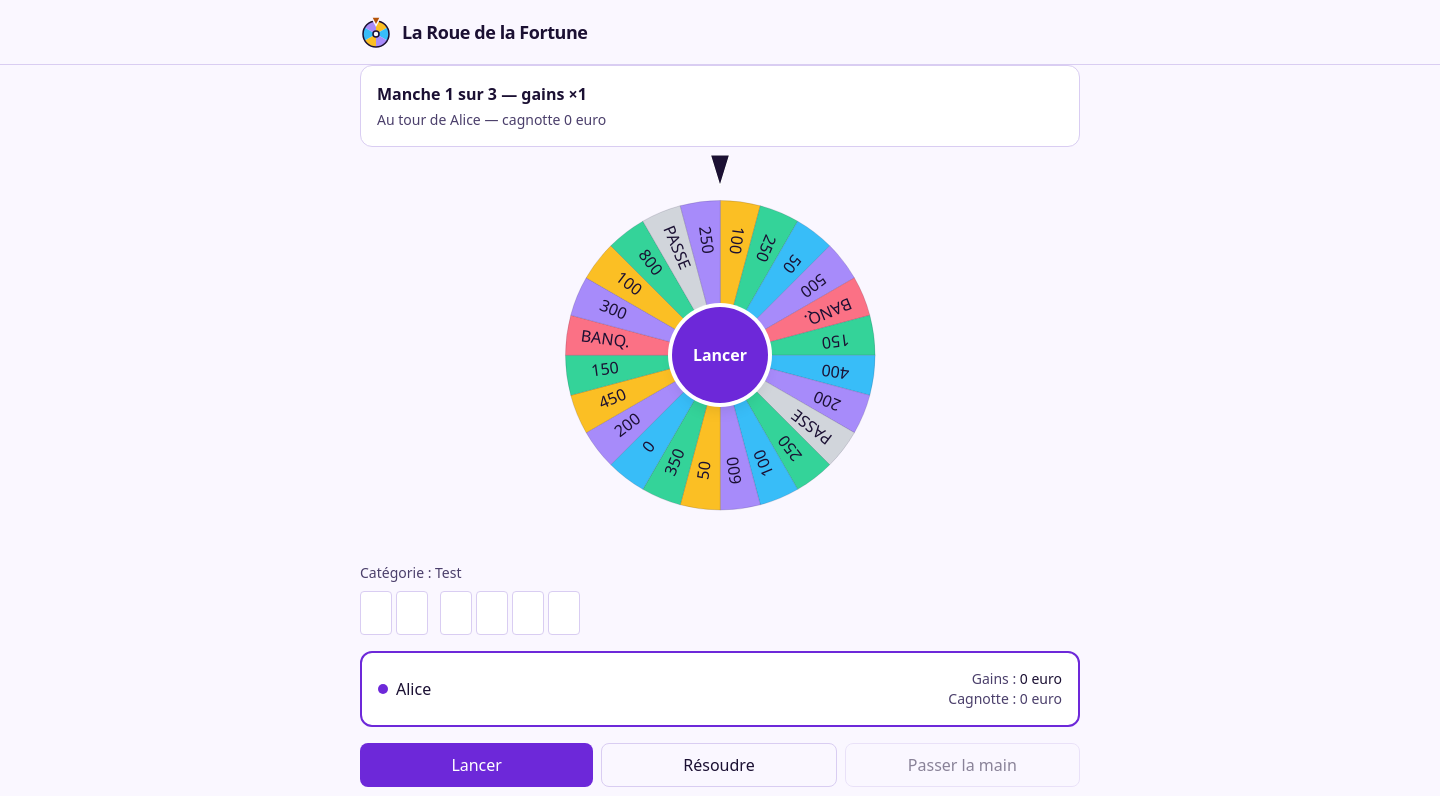
Test: GameRoute › la visée s’annule à l’ouverture de « Résoudre »
This screenshot has width=1440, height=796.
Click the 2nd button "Lancer" at (477,765), box [360,743,593,787]
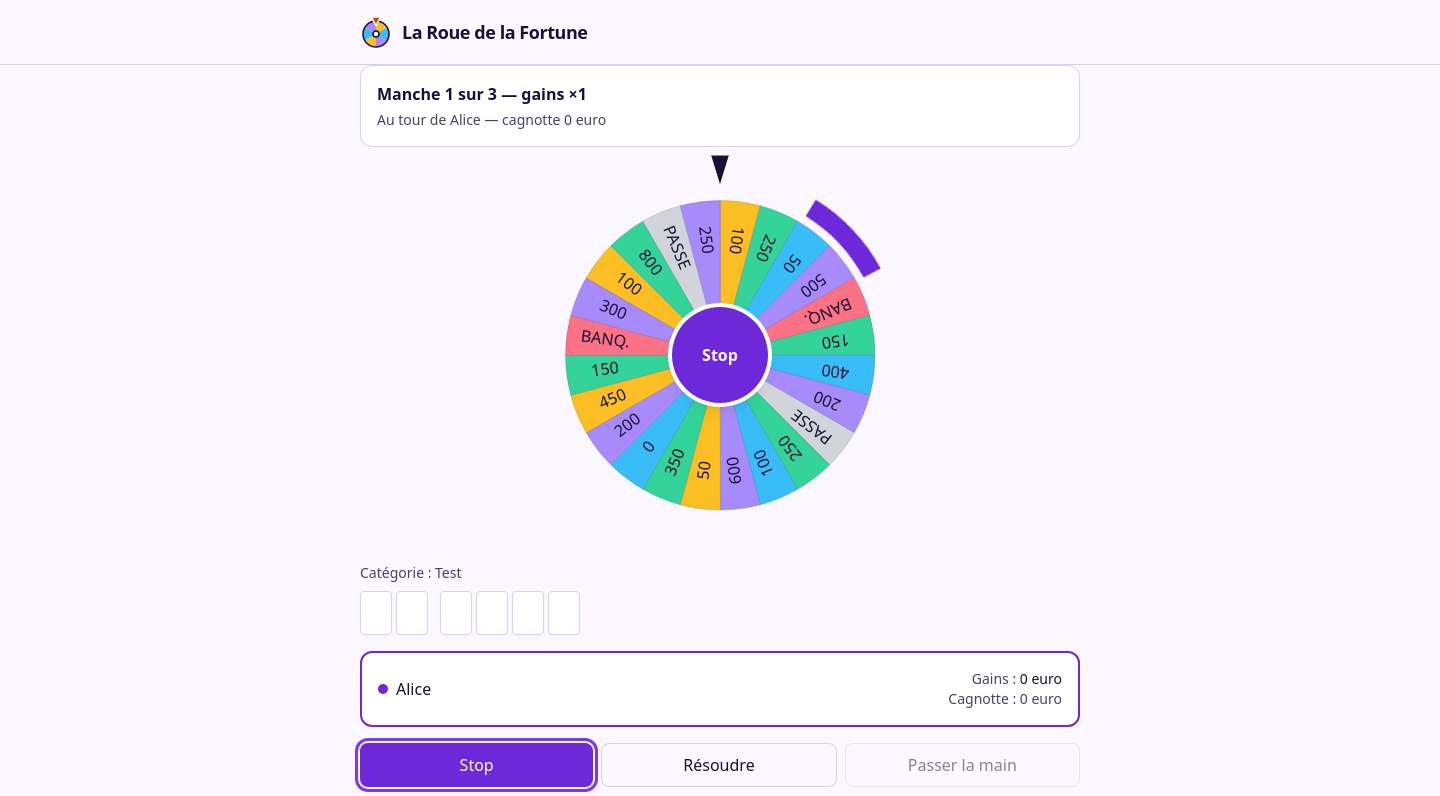
Now the 2nd button "Stop" is shown, box [360,743,593,787]
Click the button "Résoudre" at (719,765), box [601,743,837,787]
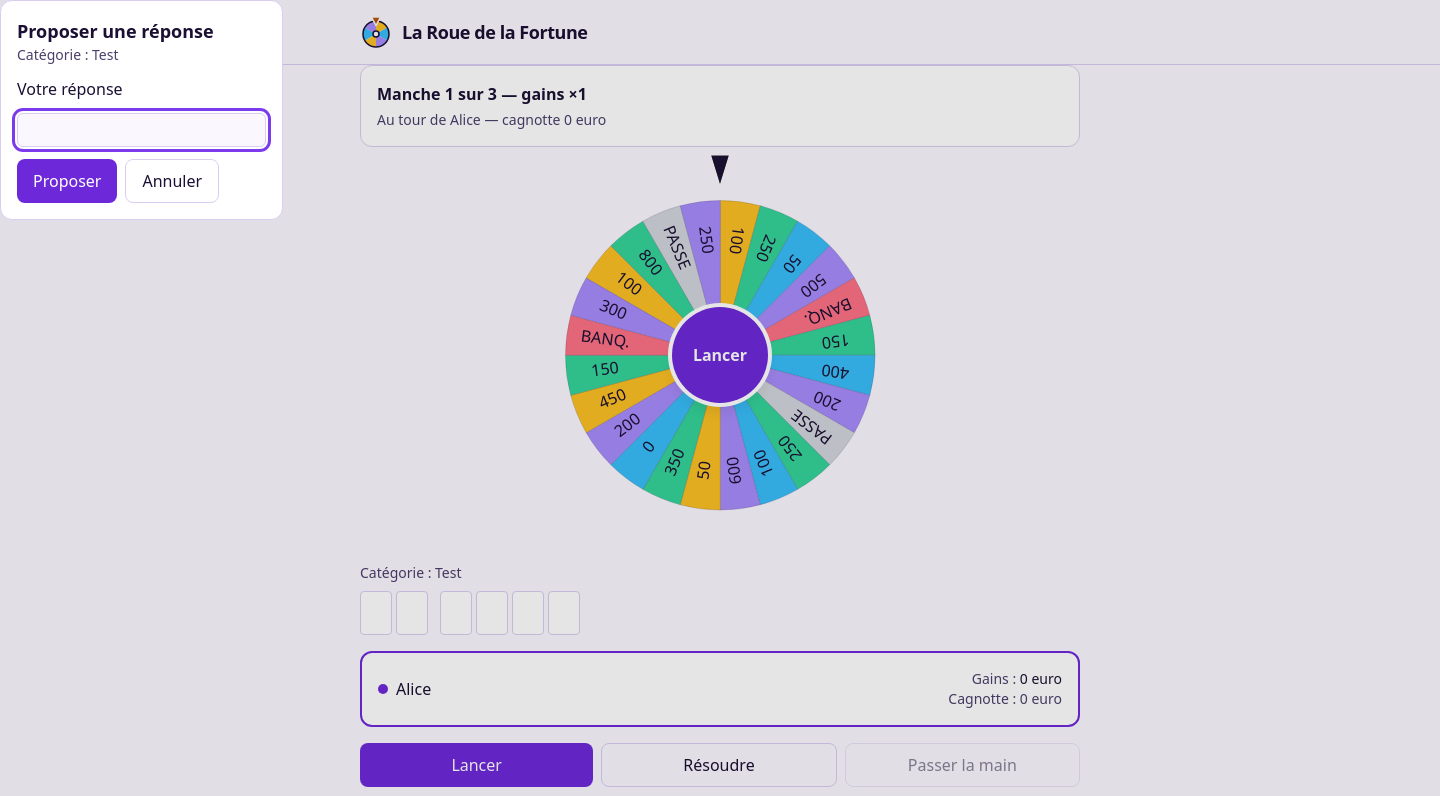
Now the button "Lancer" is shown, box [360,743,593,787]
Now the button "Stop" is gone
